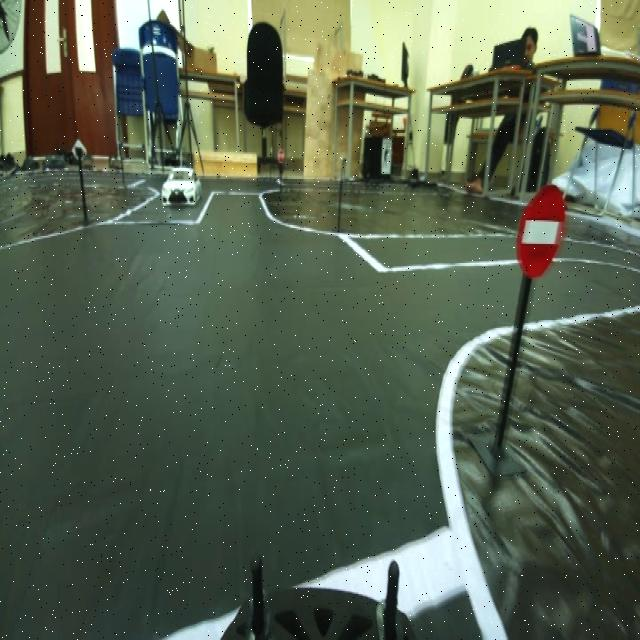car: (156, 159, 202, 215)
no_entry: (511, 174, 566, 281)
